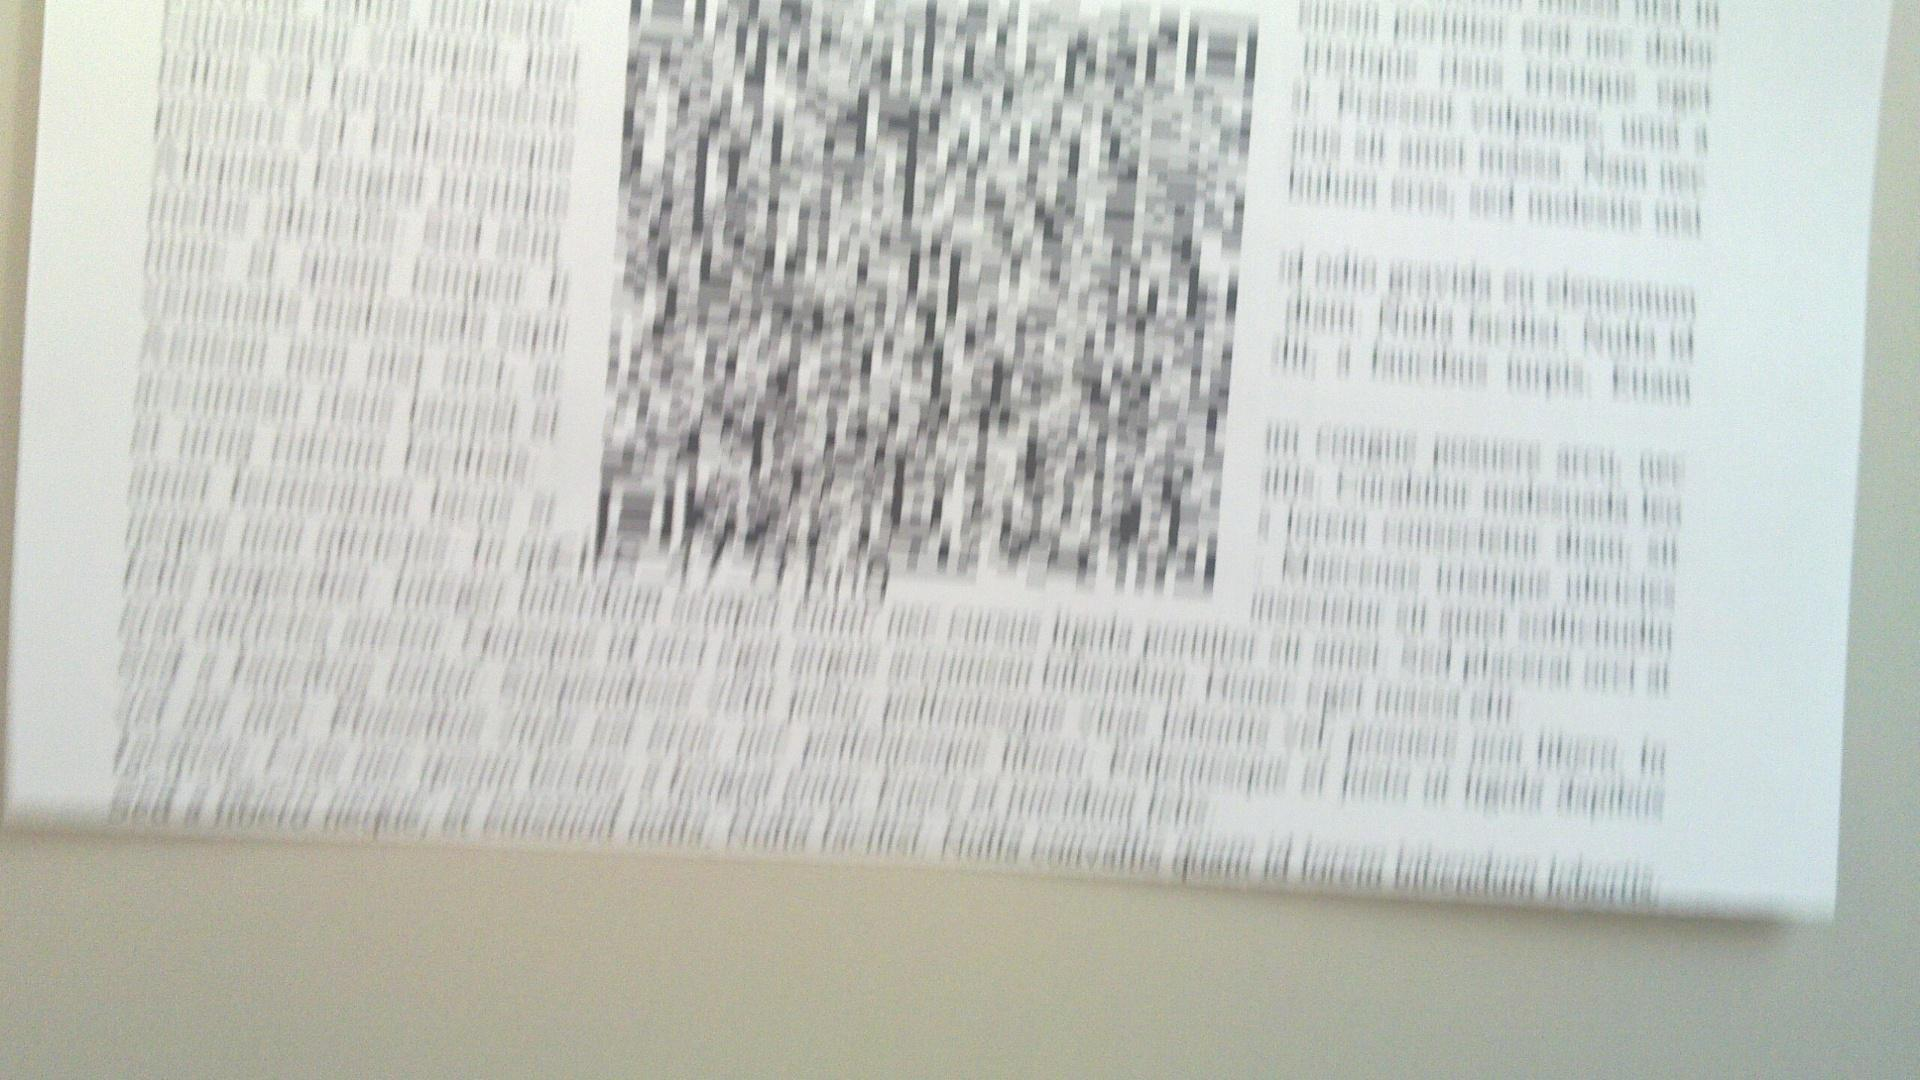Finder pattern: (589, 475, 680, 555), (1185, 9, 1270, 84)
